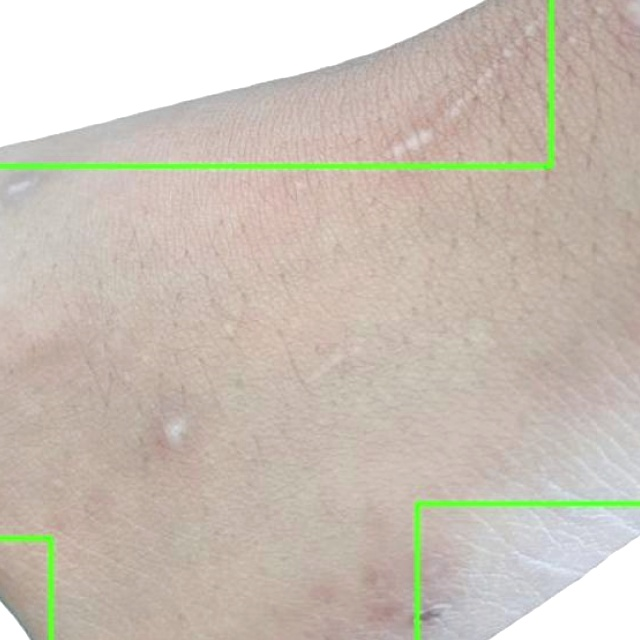Scabies: (0, 0, 551, 166), (416, 505, 639, 639)
